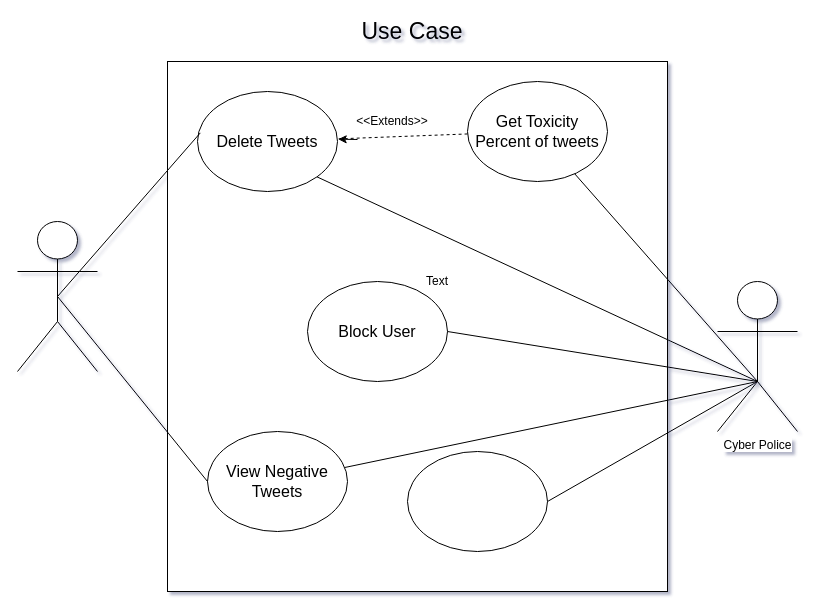
Image size: 821x615. Some labels were removed from this diagram. The centre of each missing label's shape, as x and y in pixels:
User: (57,296)
View Attacker's Details: (477,501)
